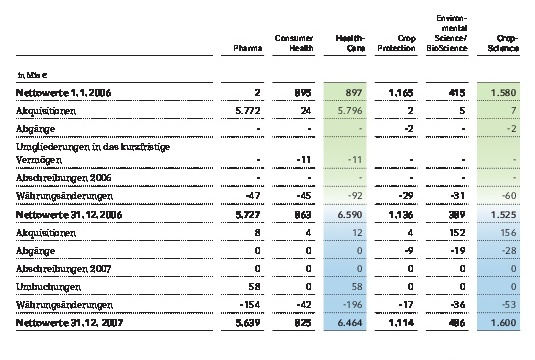table: (0, 0, 535, 360)
